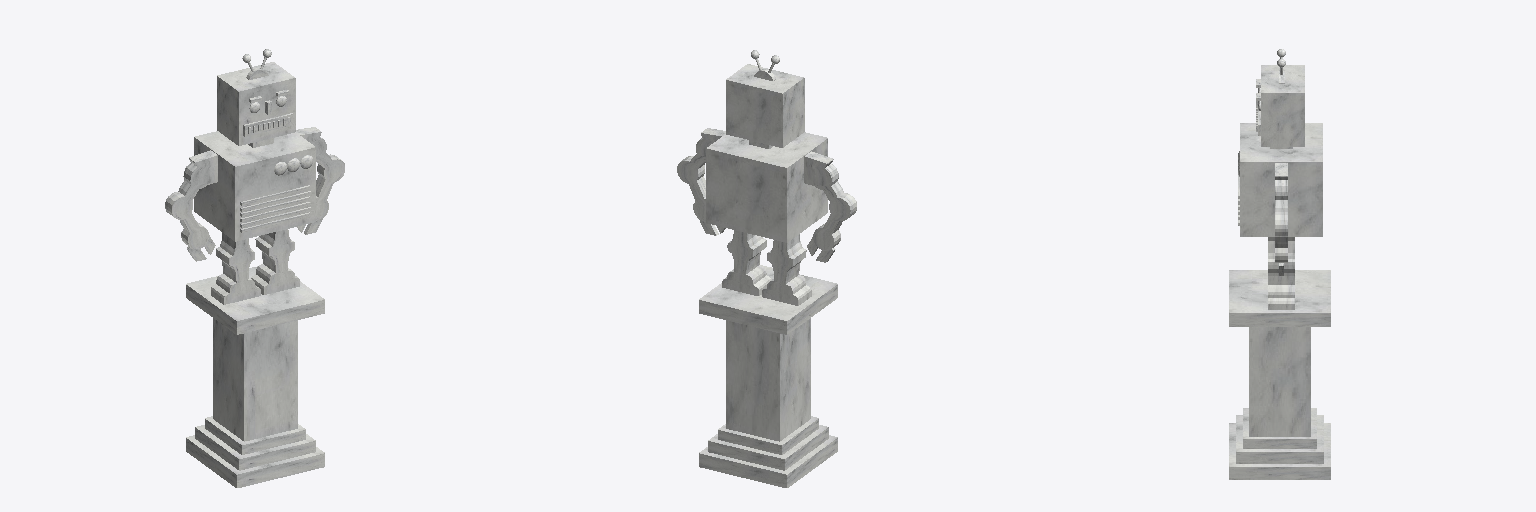
3 views of the same model, side by side, from view 1: azimuth 30°, elevation 25°; view 2: azimuth 150°, elevation 25°; view 3: azimuth 270°, elevation 25° (orthographic).
Parts seen in each view (by area): view 1: RobotGod:pCube33, DucksVILLAGE:pCube8; view 2: RobotGod:pCube33, DucksVILLAGE:pCube8; view 3: DucksVILLAGE:pCube8, RobotGod:pCube33.
Part boxes in pixels (bbox=[...]): RobotGod:pCube33: bbox=[165, 49, 344, 304]; DucksVILLAGE:pCube8: bbox=[186, 266, 324, 487]; RobotGod:pCube33: bbox=[677, 50, 856, 305]; DucksVILLAGE:pCube8: bbox=[699, 265, 837, 487]; DucksVILLAGE:pCube8: bbox=[1229, 270, 1330, 479]; RobotGod:pCube33: bbox=[1238, 49, 1322, 309].
Bounding box in the file's own units: 7.86 × 17.56 × 4.01.
Materials: 2 (1 with a texture image).